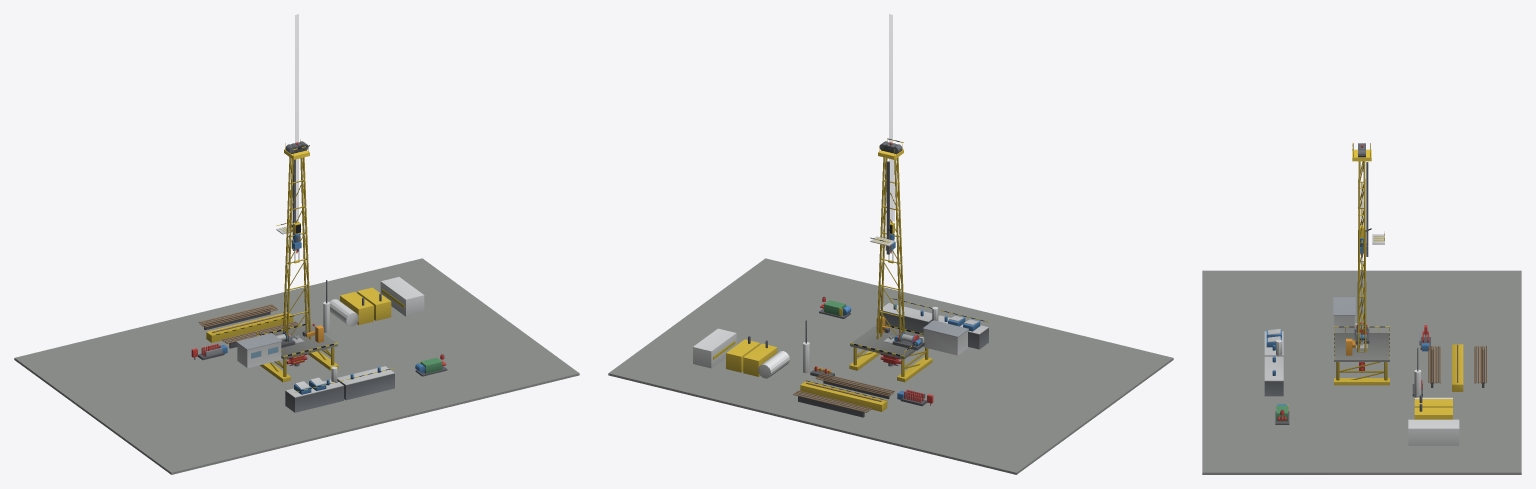
Rendered from single_med.glb.
3 views of the same model, side by side, from view 1: azimuth 30°, elevation 25°; view 2: azimuth 150°, elevation 25°; view 3: azimuth 270°, elevation 25° (orthographic).
Parts seen in each view (by area): view 1: site__pad, mudtanks__tanks, mast__mast, generators__gensets, mast__doghouse, pipehandling__racker, generators__vfd, mast__floor, pipehandling__catwalk, block__travelling, mast__substructure; view 2: site__pad, mast__mast, pipehandling__racker, mudtanks__tanks, generators__gensets, mast__doghouse, mast__floor, generators__vfd, pipehandling__catwalk, mast__substructure, block__travelling; view 3: site__pad, mast__mast, mast__floor, generators__vfd, mudtanks__tanks, pipehandling__racker, generators__gensets, mast__doghouse, mast__substructure, pipehandling__catwalk.
Boxes of the visible parts, x1,y1,x2,y2 form: site__pad: [14, 258, 579, 474]; mudtanks__tanks: [285, 366, 394, 412]; mast__mast: [283, 157, 311, 342]; generators__gensets: [340, 287, 391, 324]; mast__doghouse: [236, 333, 282, 368]; pipehandling__racker: [198, 304, 299, 348]; generators__vfd: [380, 277, 424, 316]; mast__floor: [256, 323, 337, 359]; pipehandling__catwalk: [206, 312, 293, 342]; block__travelling: [293, 14, 300, 234]; mast__substructure: [260, 347, 338, 382]; site__pad: [608, 258, 1173, 474]; mast__mast: [876, 157, 904, 342]; pipehandling__racker: [793, 373, 894, 417]; mudtanks__tanks: [879, 298, 988, 349]; generators__gensets: [726, 336, 777, 376]; mast__doghouse: [922, 320, 968, 355]; mast__floor: [850, 324, 923, 359]; generators__vfd: [693, 328, 736, 368]; pipehandling__catwalk: [800, 380, 887, 411]; mast__substructure: [849, 347, 932, 382]; block__travelling: [889, 14, 894, 234]; site__pad: [1202, 270, 1521, 474]; mast__mast: [1357, 161, 1366, 352]; mast__floor: [1334, 326, 1389, 361]; generators__vfd: [1408, 419, 1459, 445]; mudtanks__tanks: [1264, 331, 1283, 396]; pipehandling__racker: [1428, 345, 1486, 387]; generators__gensets: [1414, 395, 1452, 419]; mast__doghouse: [1333, 297, 1355, 332]; mast__substructure: [1334, 362, 1389, 385]; pipehandling__catwalk: [1452, 344, 1463, 391].
Bounding box in the file's own units: 60 × 50.47 × 40.
